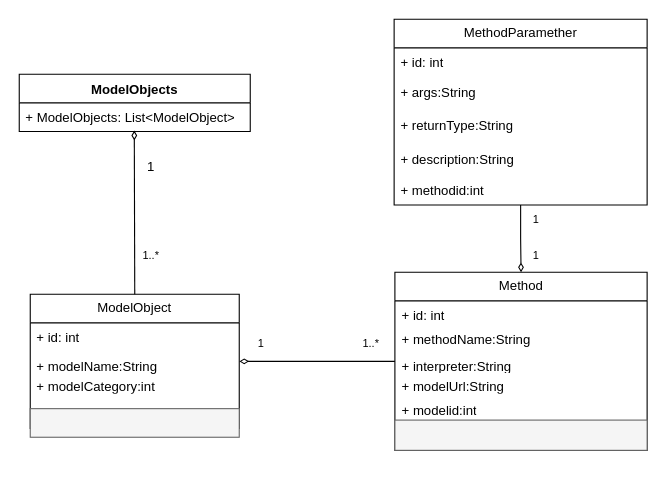
Image size: 667x481. Some labels were removed from this diagram. Each missing label, with the box of its shape:
+ methodParameters:MethodParameter: (394, 419, 647, 450)
+ methods:List<Method>: (29, 408, 239, 437)
